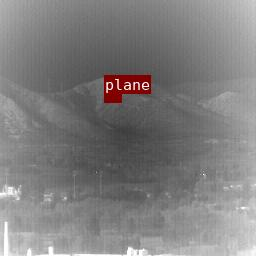plane: (104, 94, 121, 102)
